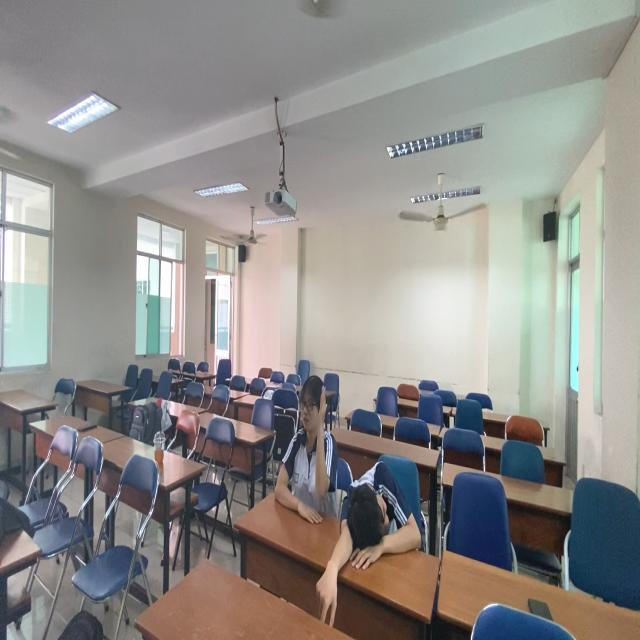raise_hand: (272, 371, 343, 528)
sleep: (327, 453, 425, 578)
